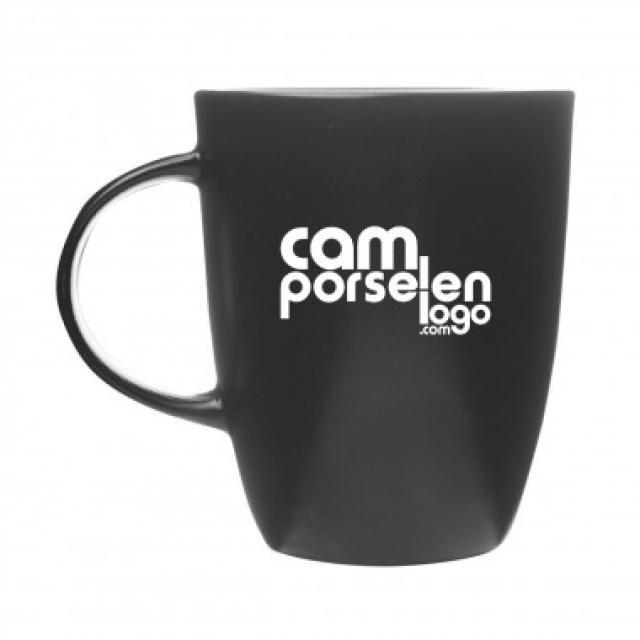Coffee Mug: (52, 85, 576, 568)
